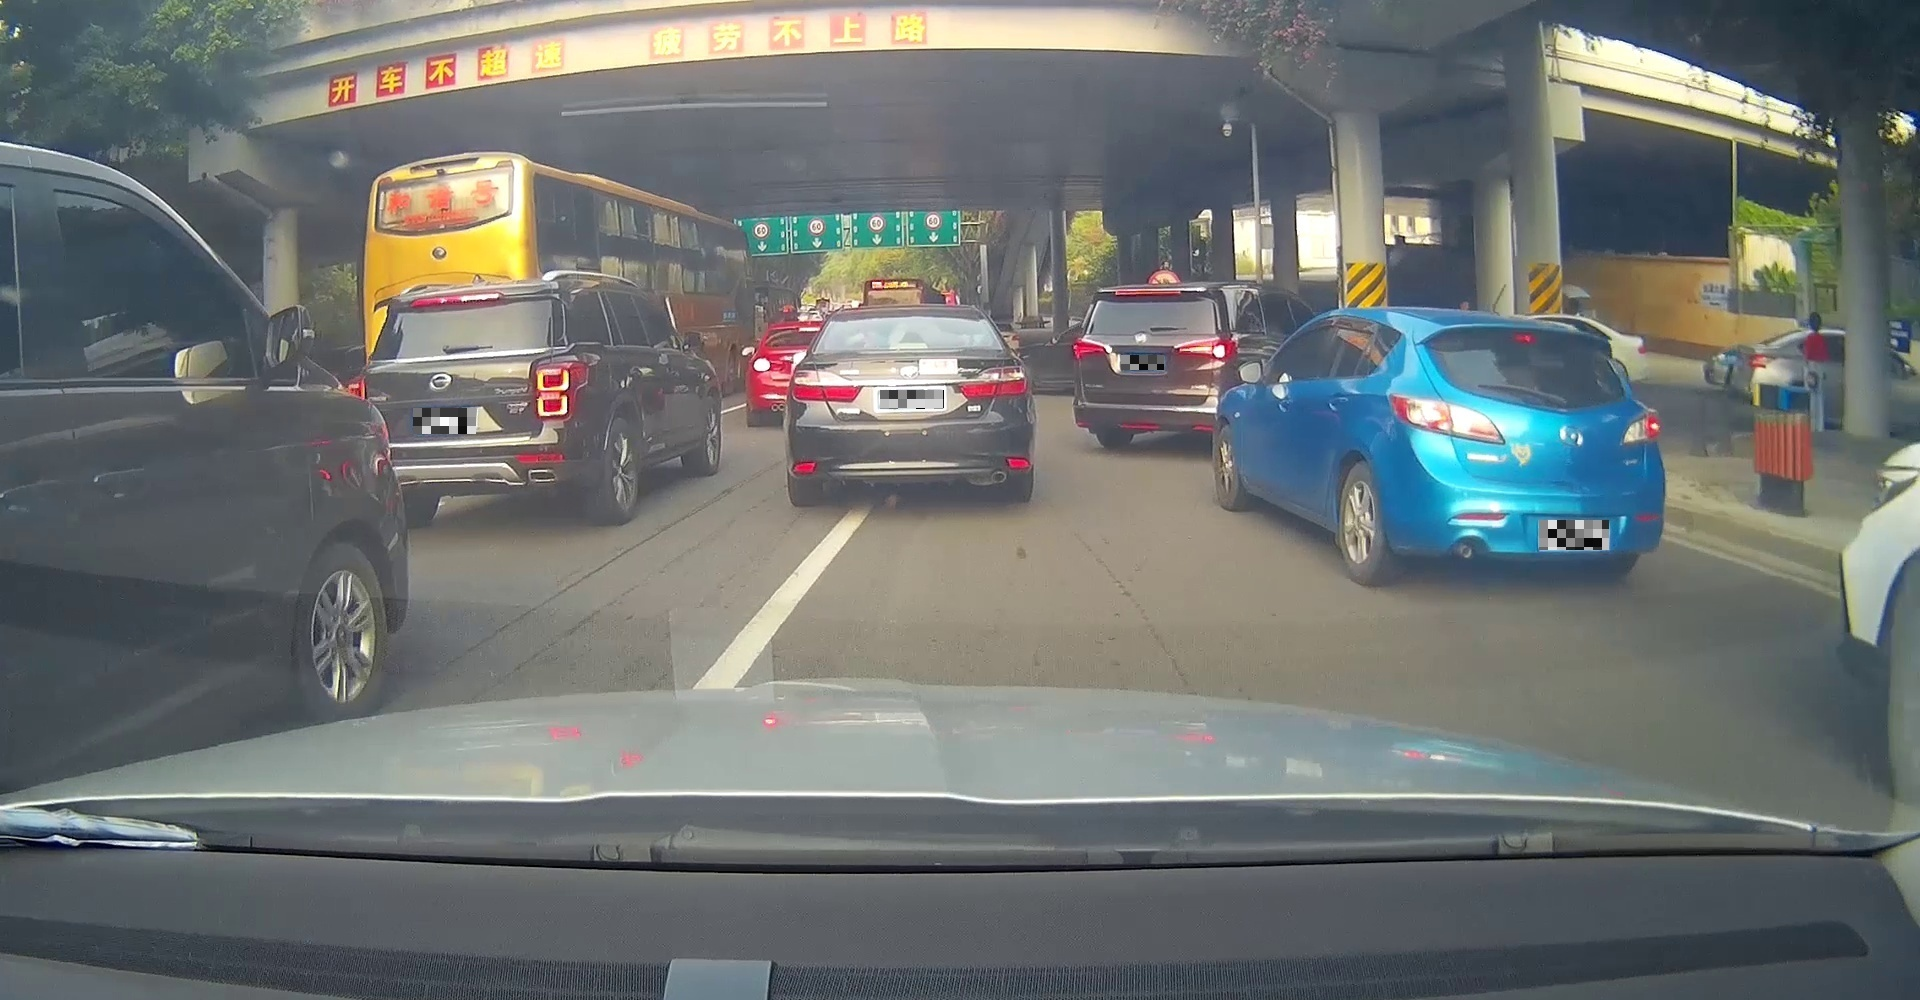L_light: (1389, 392, 1505, 444), (790, 367, 860, 402), (345, 376, 367, 416), (1070, 338, 1112, 358)
R_light: (535, 360, 589, 423), (957, 364, 1027, 398), (1620, 409, 1663, 444), (1173, 334, 1229, 360)
T_light: (408, 291, 500, 308), (1115, 291, 1182, 296), (1512, 332, 1538, 344), (890, 341, 927, 349)
day-brake: (1382, 308, 1667, 584), (342, 280, 594, 527)
day-no: (783, 306, 1032, 506)
night-right: (1069, 283, 1232, 445)
plate_1: (413, 409, 476, 434)
plate_2: (880, 390, 943, 409)
plate_3: (1121, 355, 1164, 371)
plate_4: (1539, 520, 1609, 549)
